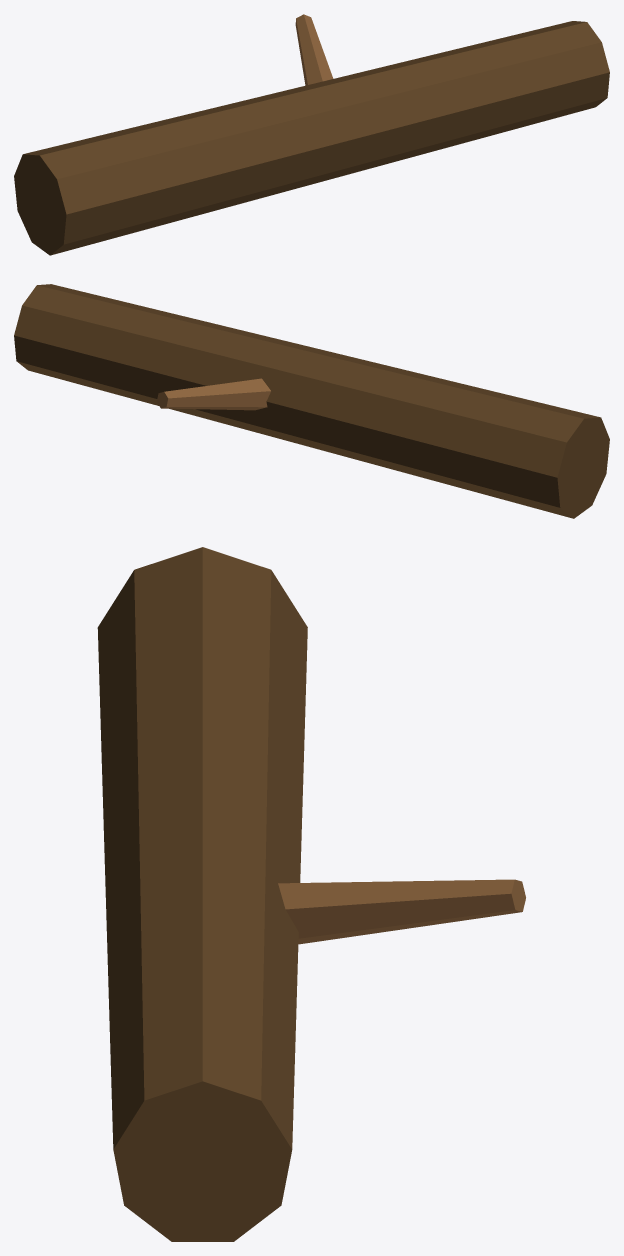
File: SM_FallenLog.fbx
3 views of the same model, one above another, from view 1: azimuth 30°, elevation 25°; view 2: azimuth 150°, elevation 25°; view 3: azimuth 270°, elevation 25° (orthographic). The views are drawn at different scales.
Parts seen in each view (by area): view 1: SM_FallenLog; view 2: SM_FallenLog; view 3: SM_FallenLog.
Part boxes in pixels (x1=…): SM_FallenLog: x1=14, y1=14, x2=609, y2=255; SM_FallenLog: x1=14, y1=284, x2=609, y2=518; SM_FallenLog: x1=97, y1=547, x2=525, y2=1241.
Bounding box in the file's own units: 3.21 × 1.08 × 0.5274.
